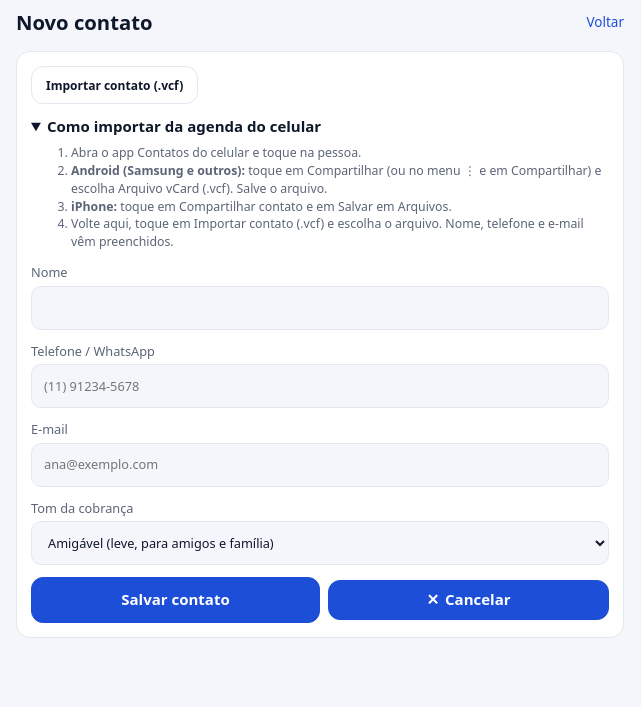
Scenario: Configurações > Contatos › não salva sem nome
Click the button "Salvar contato". click: [176, 600]
box: [31,577,320,623]
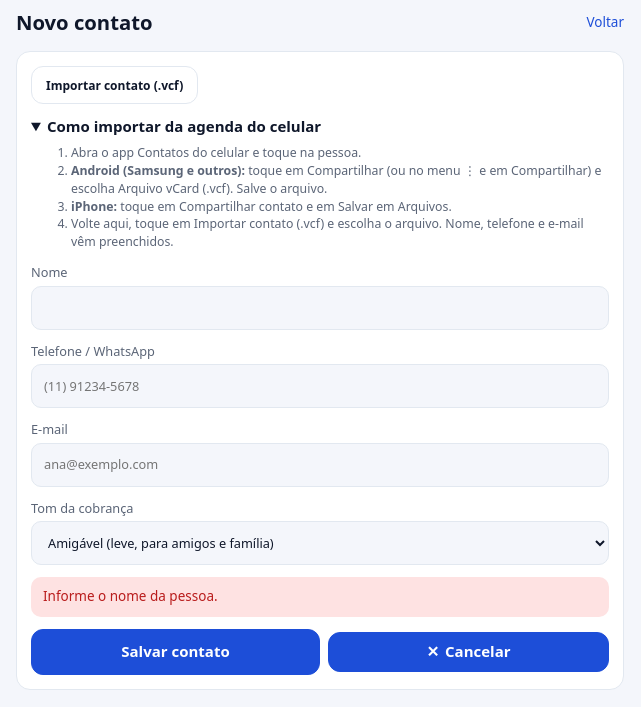
Expected: the message reads "Informe o nome da pessoa.", [43,587,218,605]
